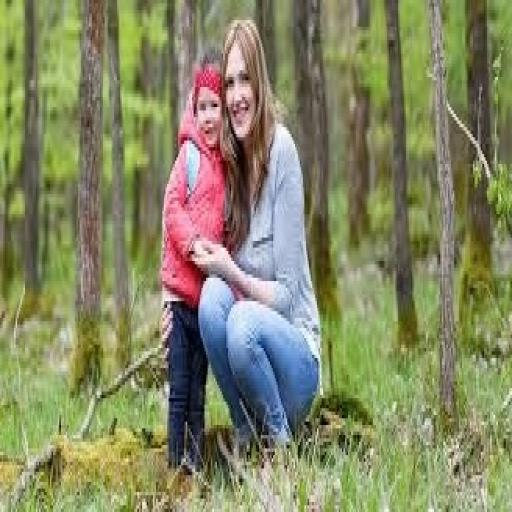hugging: (189, 16, 325, 468), (158, 57, 230, 478)
